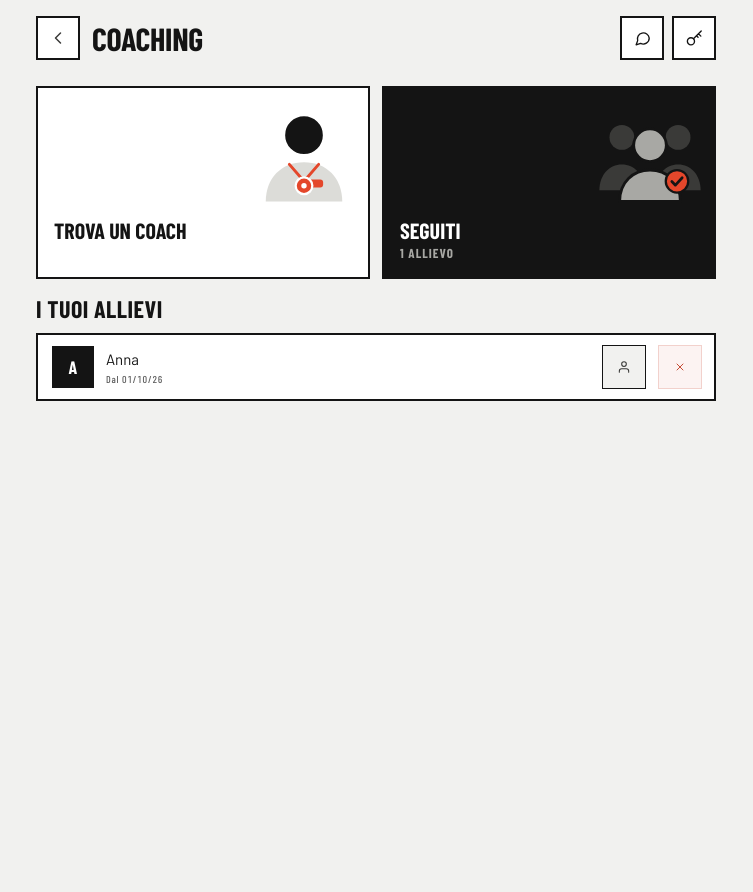
it: il numero nella pagina dell’allievo › rinumerare rilegge le righe: una scheda tolta non torna, un ritocco fatto altrove resta
Click the button "A Anna Dal 01/10/26": (108, 367) [52, 346, 163, 388]
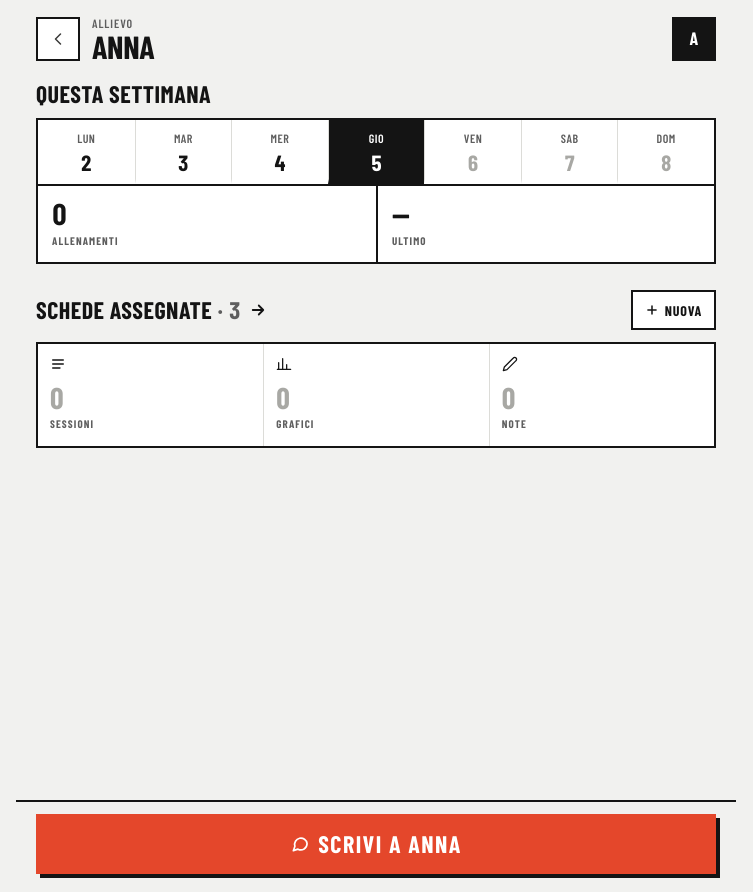
Click the button "Schede assegnate · 3": (152, 310) [36, 290, 267, 330]
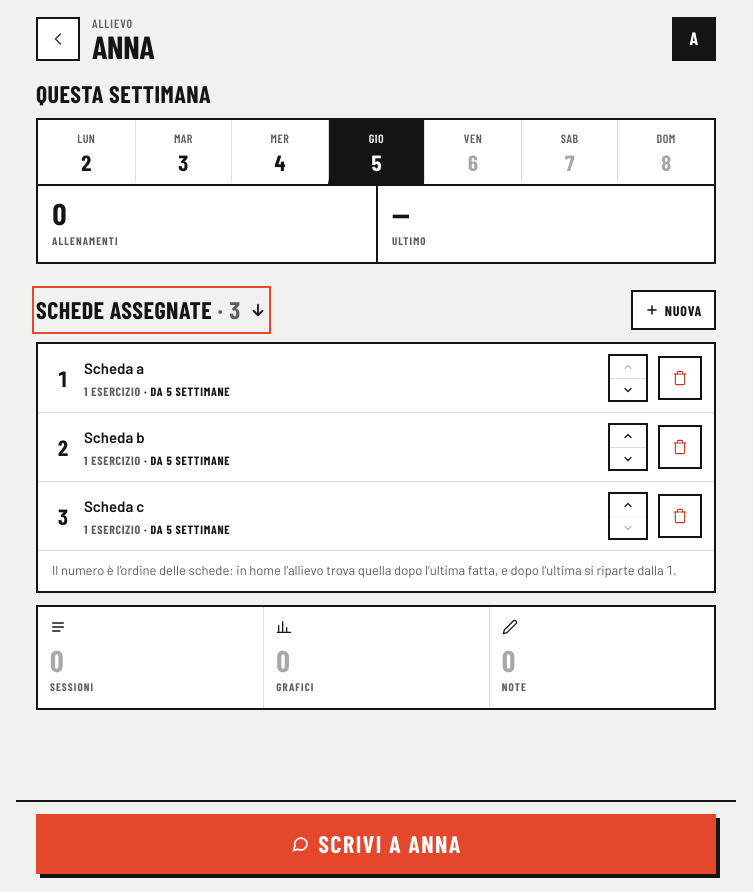
Click the button named "Sposta su Scheda c": (628, 505) [610, 494, 646, 516]
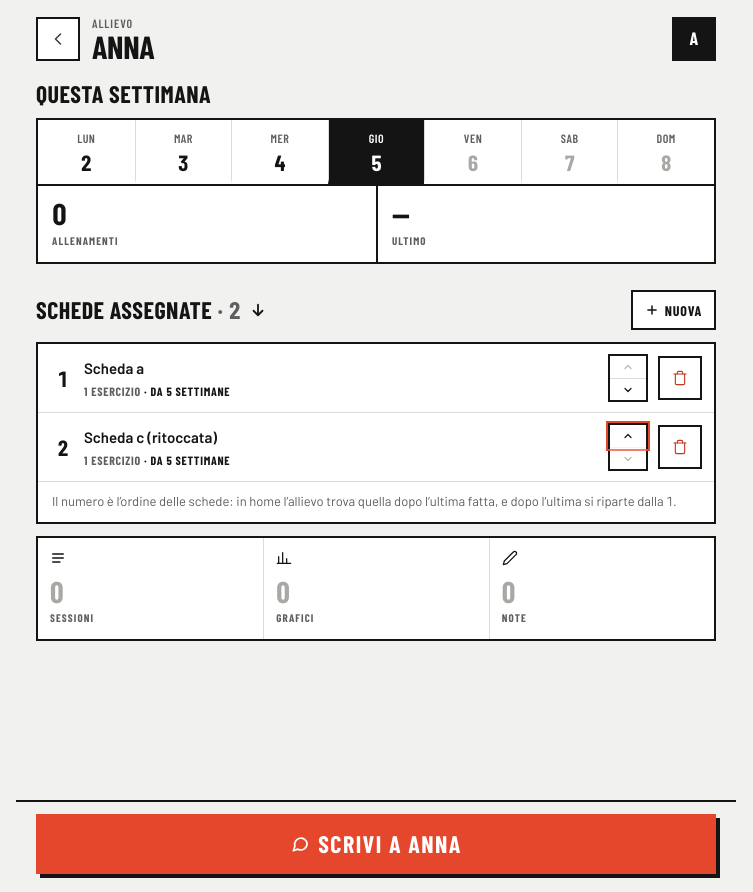
Expected: the text "Scheda c (ritoccata)" is shown, [84, 426, 217, 448]
Expected: the button "Scheda b" is gone
